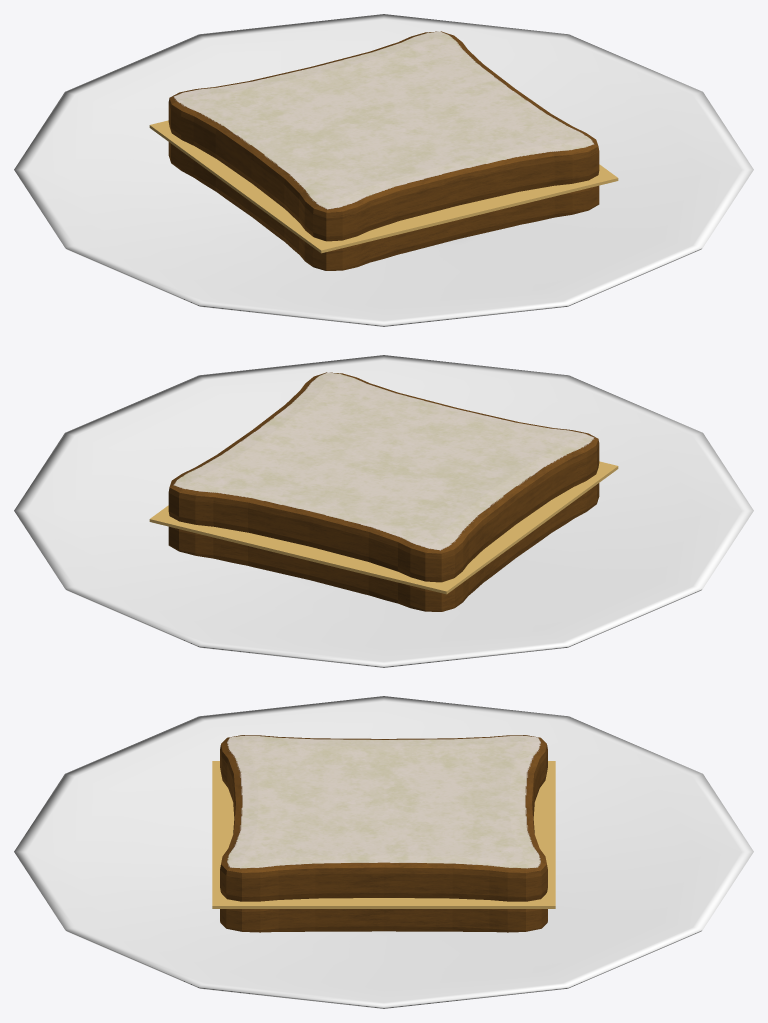
Rendered from Toast.fbx.
3 views of the same model, one above another, from view 1: azimuth 30°, elevation 25°; view 2: azimuth 150°, elevation 25°; view 3: azimuth 270°, elevation 25° (orthographic).
Parts seen in each view (by area): view 1: Plate, Toast, Cheese; view 2: Plate, Toast, Cheese; view 3: Plate, Toast, Cheese.
Boxes of the visible parts, x1,y1,x2,y2 form: Plate: (14, 14, 753, 326); Toast: (168, 31, 599, 270); Cheese: (149, 120, 618, 253); Plate: (14, 355, 753, 667); Toast: (168, 372, 599, 611); Cheese: (149, 461, 618, 594); Plate: (14, 696, 753, 1008); Toast: (220, 735, 547, 932); Cheese: (212, 761, 555, 908).
Size of the model in its own units: 11.15 by 1.52 by 11.2.
